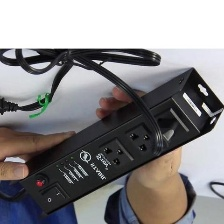three_eye_plug: (13, 65, 224, 217)
